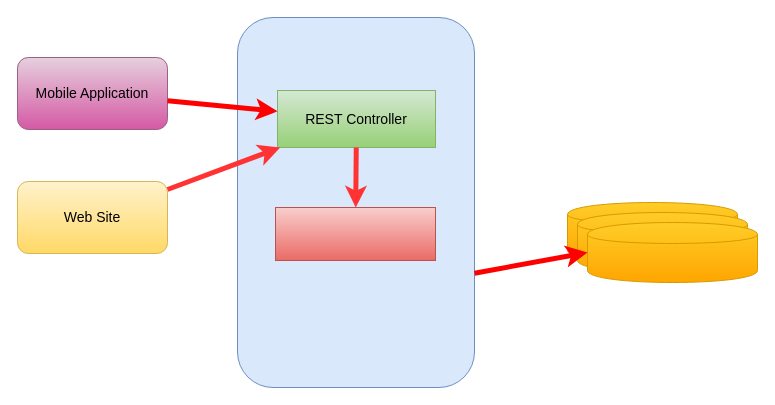
Image size: 775x405. Some labels were removed from this diagram. The centre of each missing label's shape, as x and y in pixels:
Application Logic: point (355, 233)
Data Storage: point (672, 252)
